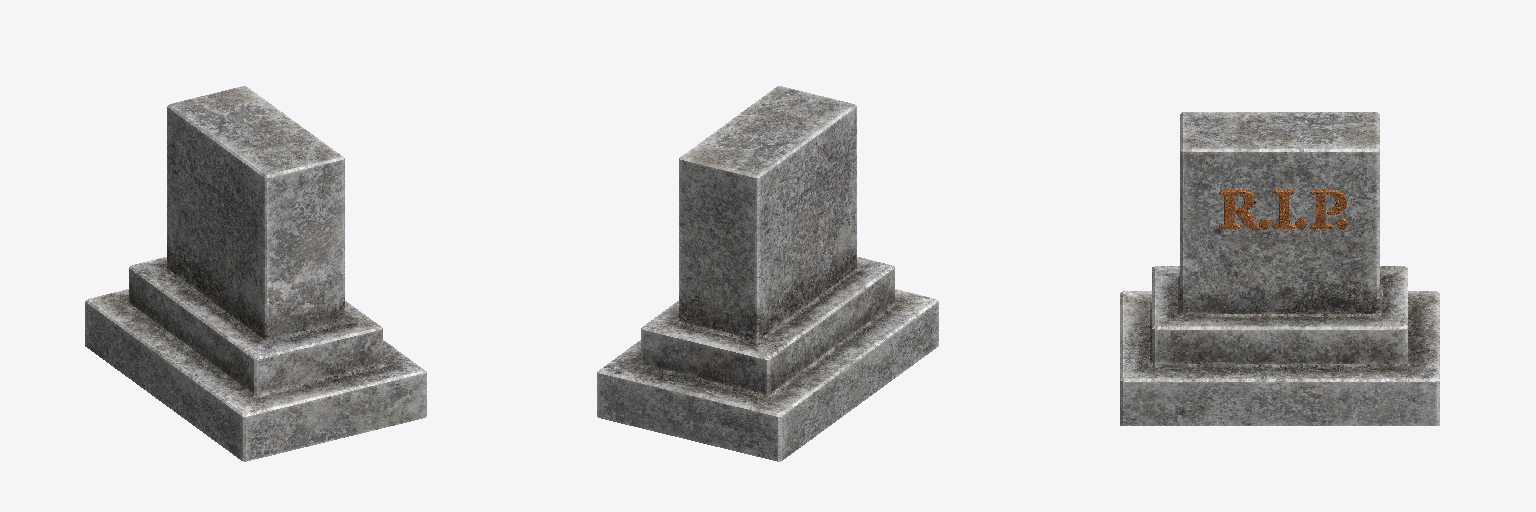
3 views of the same model, side by side, from view 1: azimuth 30°, elevation 25°; view 2: azimuth 150°, elevation 25°; view 3: azimuth 270°, elevation 25° (orthographic).
Parts seen in each view (by area): view 1: lapide-01_Plane; view 2: lapide-01_Plane; view 3: lapide-01_Plane, RIP_Mesh.
Boxes of the visible parts, <box> form: lapide-01_Plane: <box>85,86,426,461</box>; lapide-01_Plane: <box>597,86,938,461</box>; lapide-01_Plane: <box>1120,112,1439,425</box>; RIP_Mesh: <box>1219,189,1347,229</box>.
Size of the model in its own units: 1 by 1.3 by 1.5.
Materials: 2 (2 with a texture image).